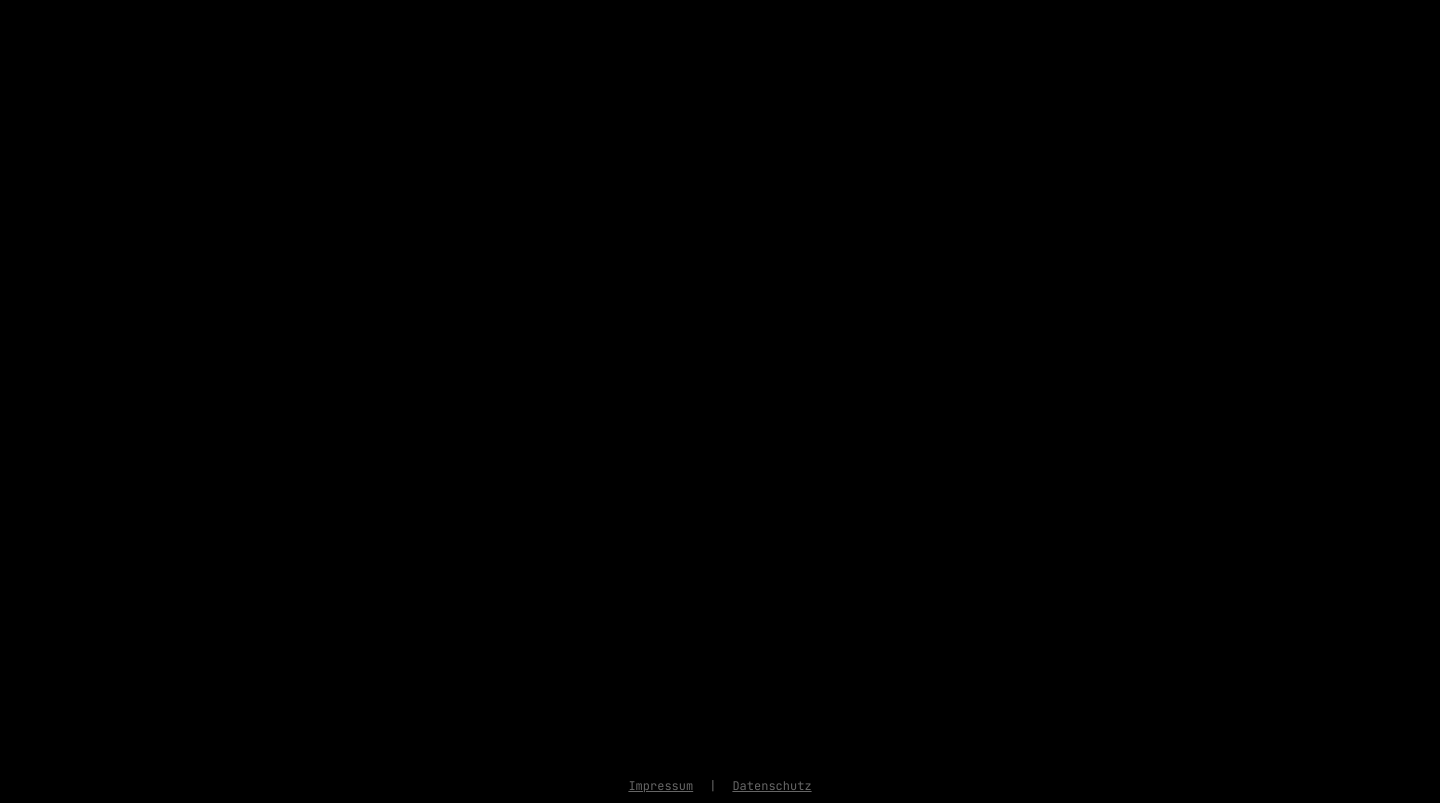
Scenario: App — central back-navigation wiring › 3. ESC on a standard active event opens the run-leave dialog; a 2nd ESC closes ONLY the dialog
Press Enter
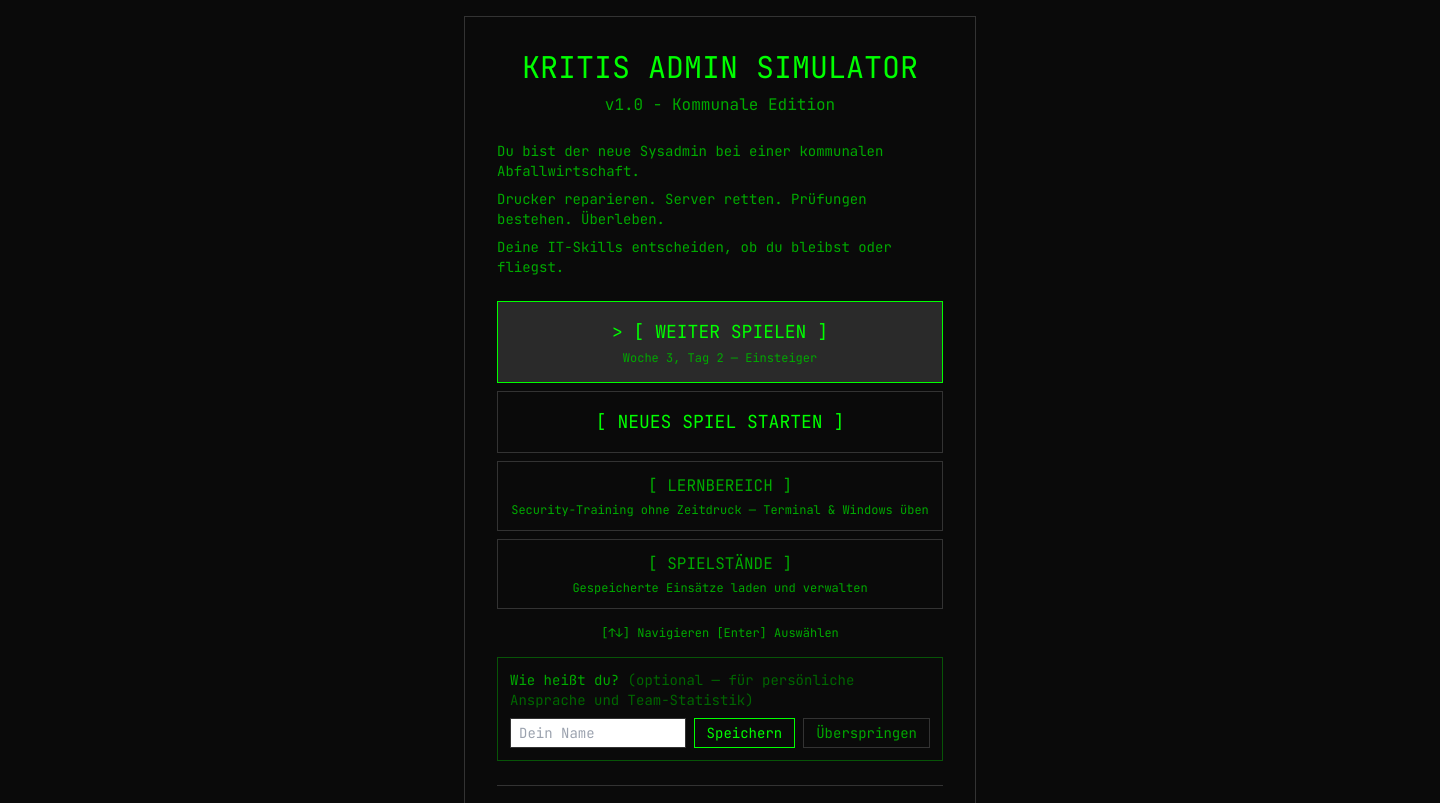
Click the button "> [ WEITER SPIELEN ] Woche 3, Tag 2 — Einsteiger" at [720, 342], box [497, 301, 943, 383]
(page scrolled)
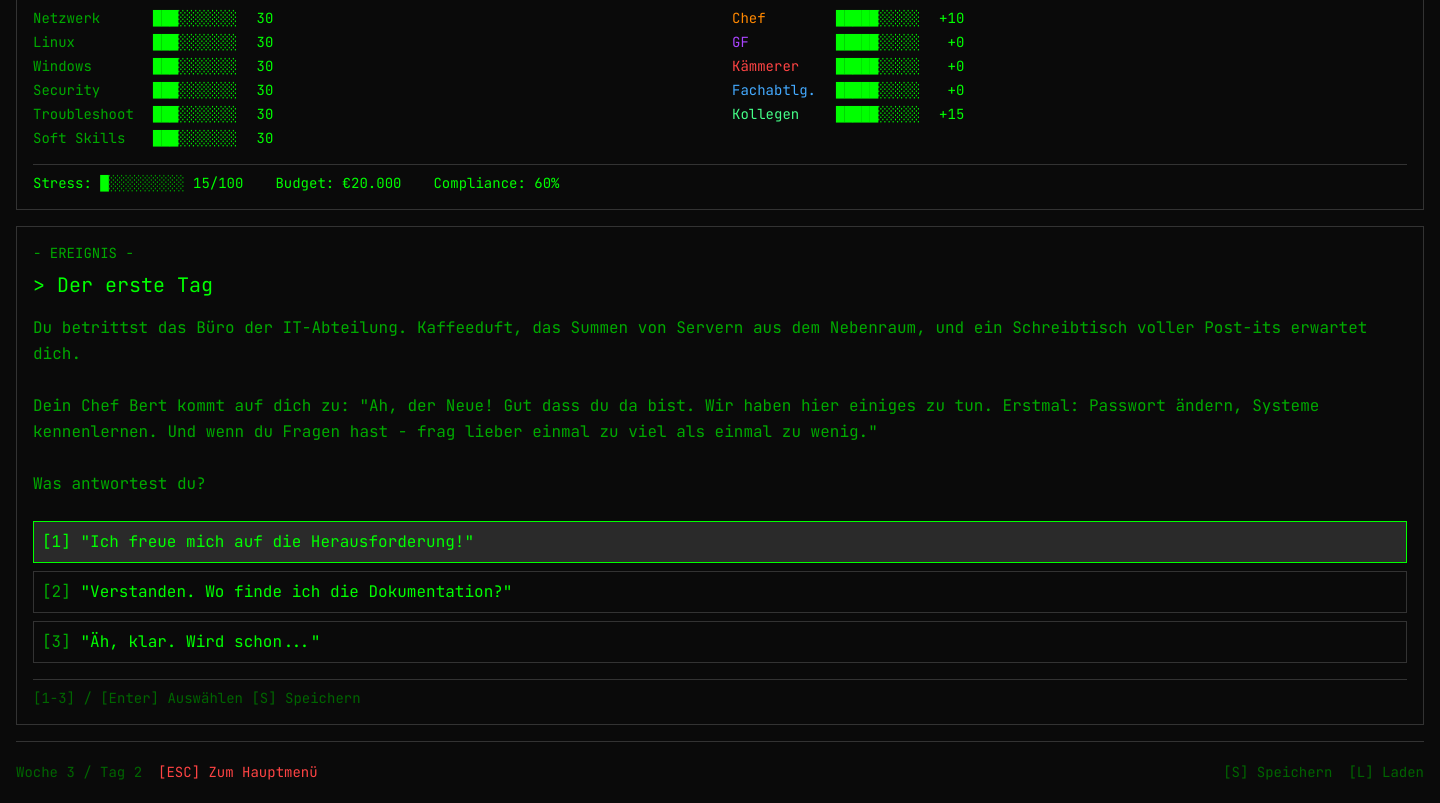
Now the button "[ESC] Zum Hauptmenü" is shown, box [158, 750, 318, 794]
Press Escape
(page scrolled)
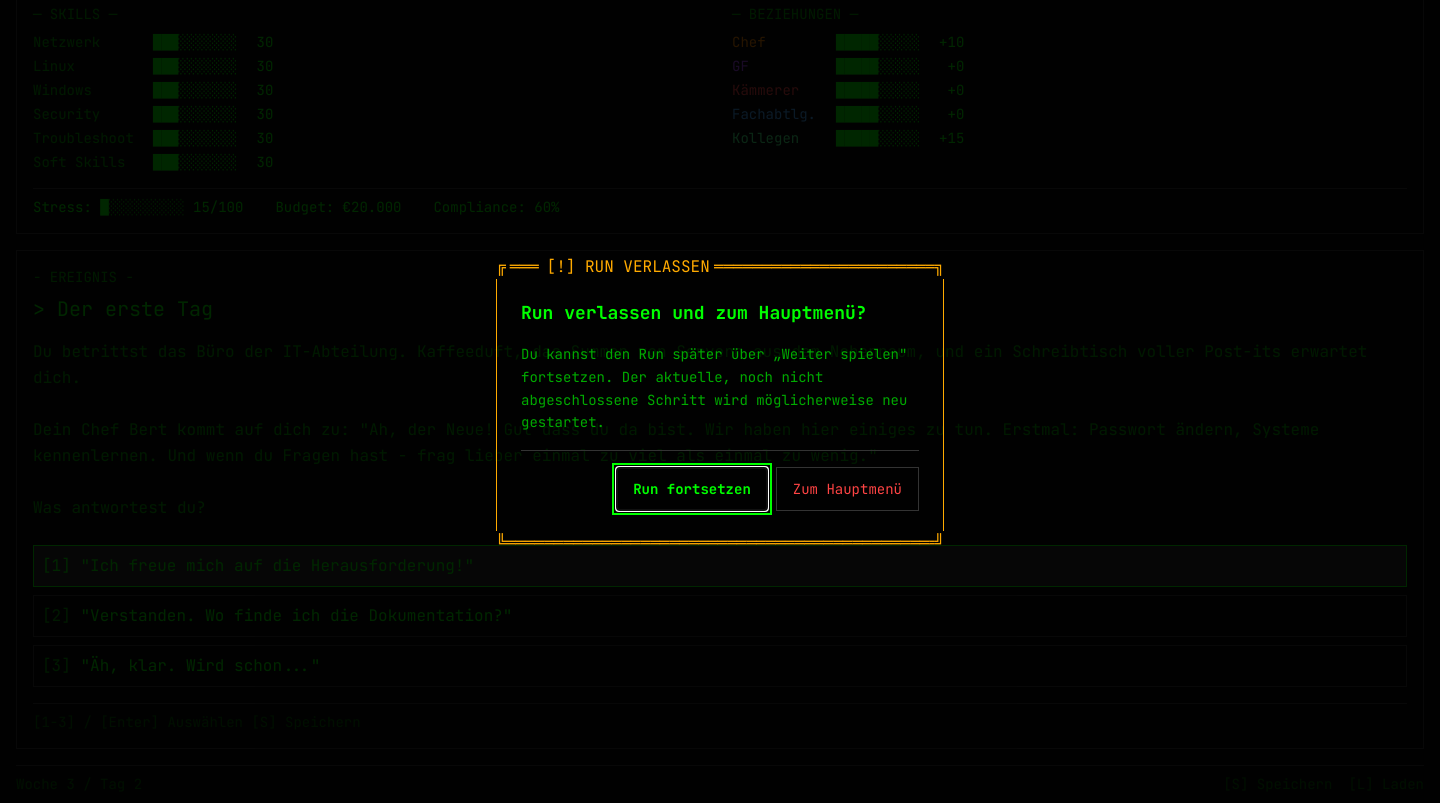
Now the heading "Run verlassen und zum Hauptmenü?" is shown, box [521, 299, 919, 327]
Press Escape
(page scrolled)
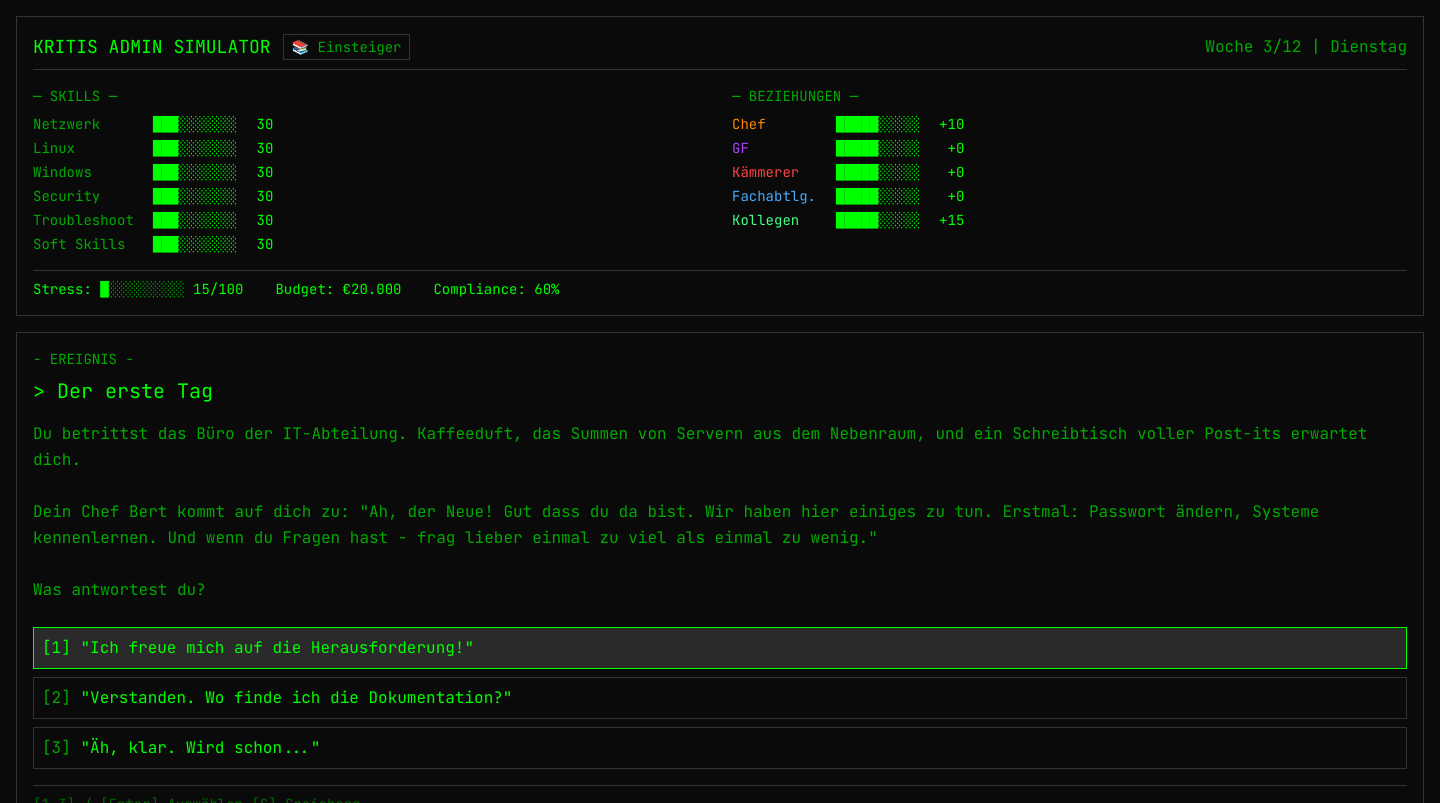
Expected: the button "NEUES SPIEL STARTEN" is not shown
Now the text "Woche 3/12 | Dienstag" is shown, box [1205, 35, 1407, 59]
Now the heading "Run verlassen und zum Hauptmenü" is gone
